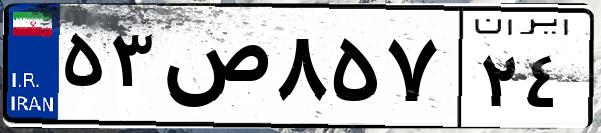2: (475, 38, 525, 113)
3: (110, 28, 158, 98)
4: (525, 38, 570, 115)
5: (330, 28, 385, 110), (57, 26, 110, 100)
7: (385, 28, 445, 110)
8: (270, 28, 330, 110)
ص: (158, 20, 270, 120)
